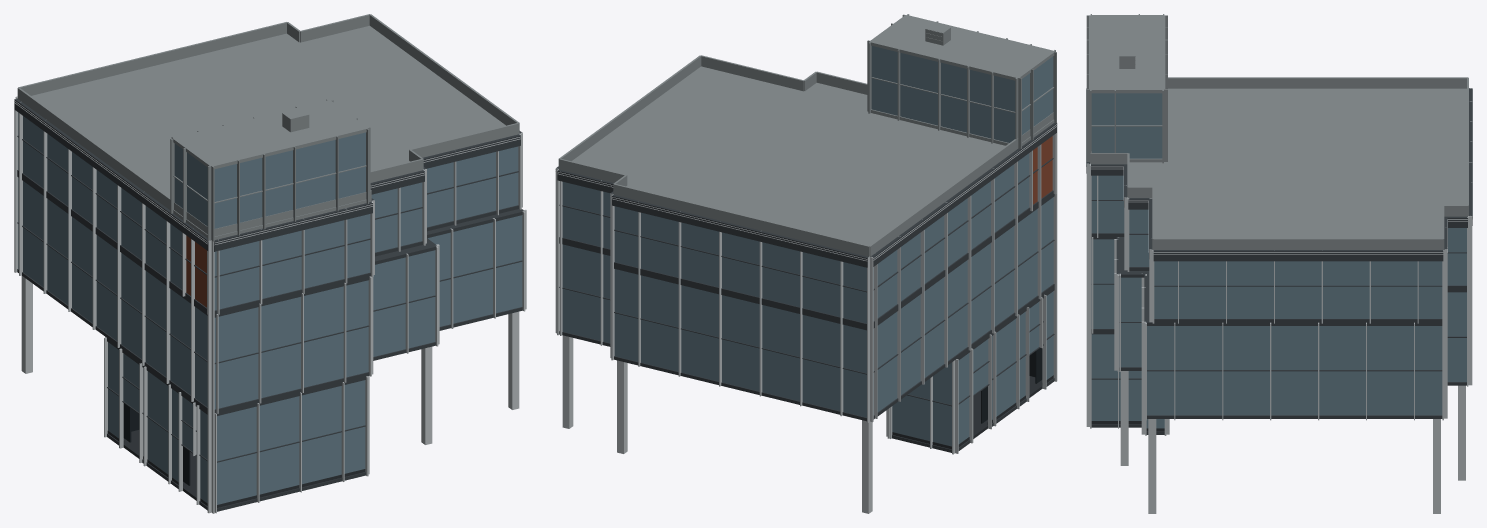
Rendered from building-v3-lod1.glb.
3 views of the same model, side by side, from view 1: azimuth 30°, elevation 25°; view 2: azimuth 150°, elevation 25°; view 3: azimuth 270°, elevation 25° (orthographic). The views are drawn at different scales.
Parts seen in each view (by area): view 1: building-v3_MATERIAL_BATCH; view 2: building-v3_MATERIAL_BATCH; view 3: building-v3_MATERIAL_BATCH.
Part boxes in pixels (x1=…): building-v3_MATERIAL_BATCH: x1=14, y1=14, x2=526, y2=513; building-v3_MATERIAL_BATCH: x1=555, y1=14, x2=1057, y2=513; building-v3_MATERIAL_BATCH: x1=1086, y1=14, x2=1472, y2=513.
Size of the model in its own units: 22.05 by 21.8 by 21.8.
